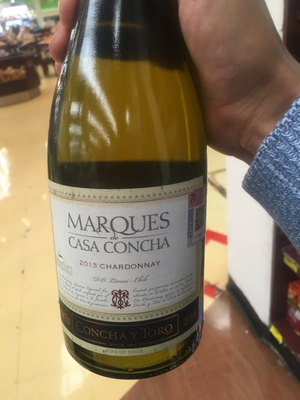marques de casa concha chardonnay: (47, 9, 211, 375)
